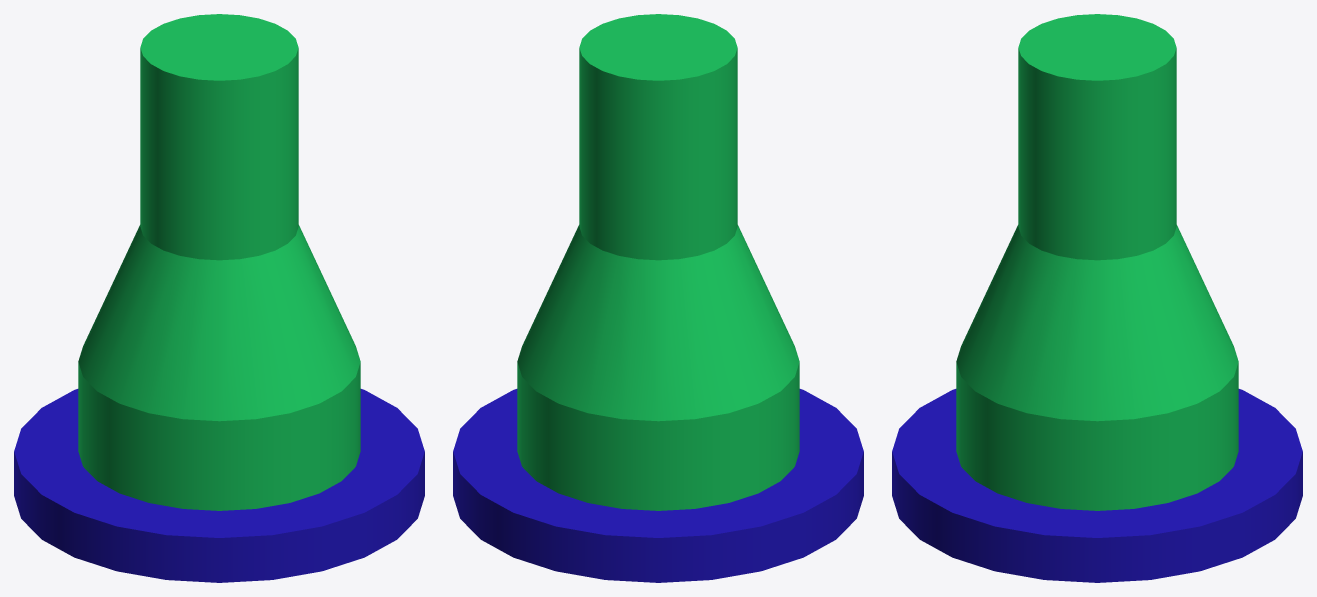
Rendered from Flask.glb.
The picture shows the model from 3 angles, left to right: view 1: azimuth 30°, elevation 25°; view 2: azimuth 150°, elevation 25°; view 3: azimuth 270°, elevation 25°; orthographic projection.
Visible parts, largest first — view 1: mast_bottom; view 2: mast_bottom; view 3: mast_bottom.
Part boxes in pixels (x1,y1,x2,y2): mast_bottom: (14, 14, 424, 582); mast_bottom: (453, 14, 863, 582); mast_bottom: (892, 14, 1302, 582).
Bounding box in the file's own units: 0.8294 × 1 × 0.8294.
